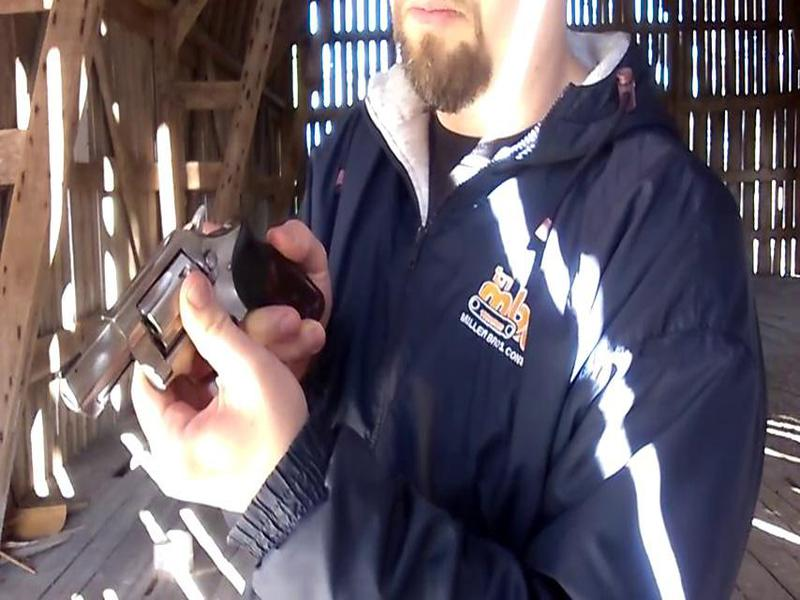Revolver: (61, 208, 346, 407)
